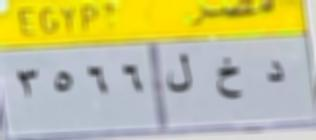3: (12, 65, 41, 103)
5: (48, 65, 75, 98)
6: (81, 59, 110, 101), (123, 61, 145, 94)
daal: (259, 55, 286, 91)
khaa: (213, 56, 245, 103)
laam: (165, 49, 194, 94)
